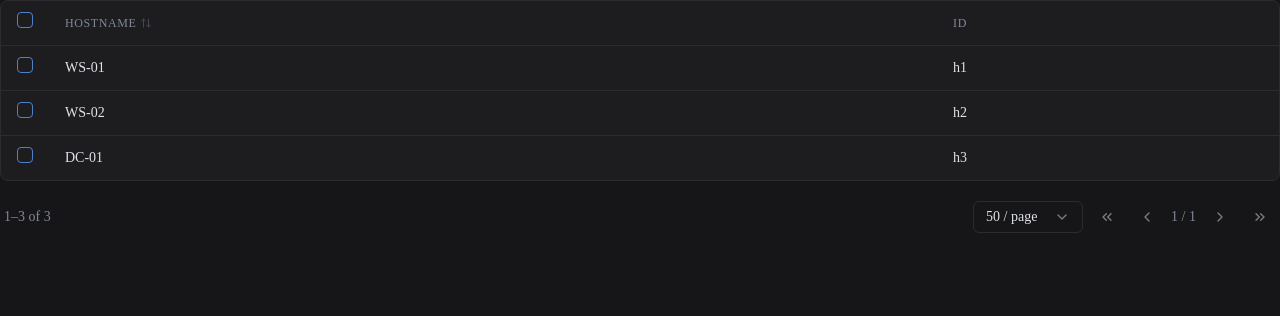
it: DataTable › clears the page-scoped selection when the list state changes
Step 1. Click the checkbox named "Select all rows on this page" → {"x": 25, "y": 20}, box [17, 12, 33, 28]
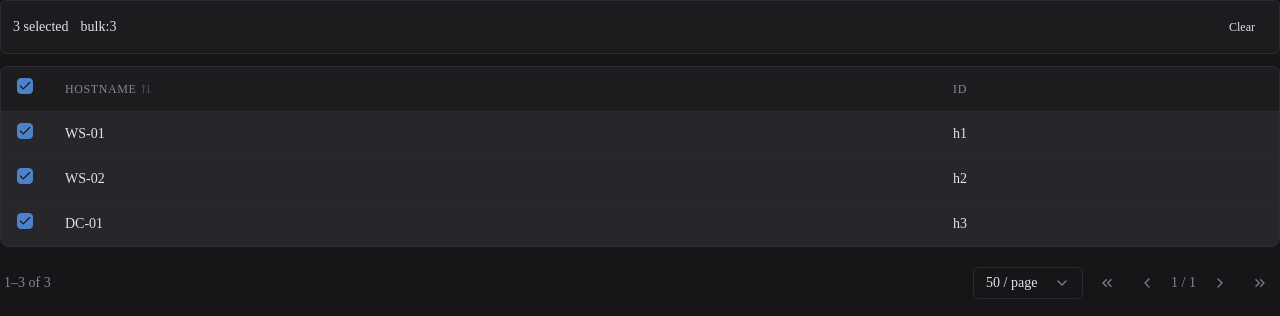
Result: the text "bulk:3" is shown at [81, 17, 116, 37]
